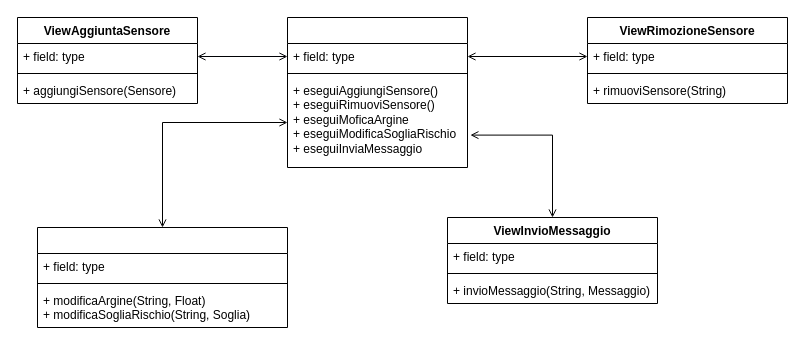
This 805x348 diagram has some shape labels left out. The box of each missing label's shape, as (x1, y1, x2, y2) in pixels:
HomePannelloControllo: (286, 16, 468, 168)
ViewModificaSoglieRischio: (36, 226, 288, 328)
